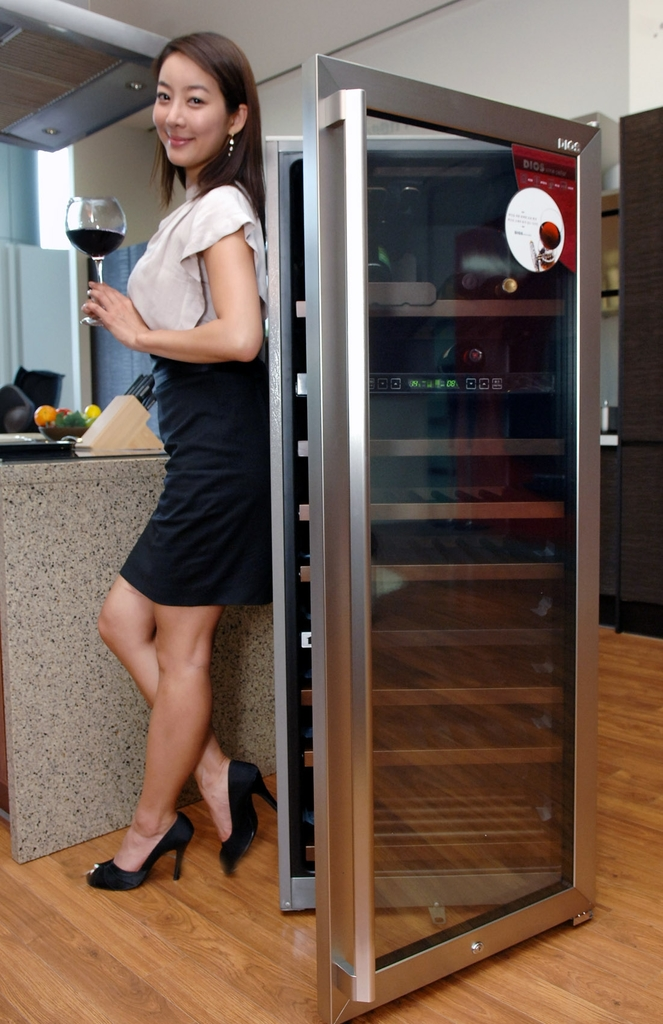handle: (326, 87, 382, 1013)
refrigerator door: (316, 61, 585, 926)
